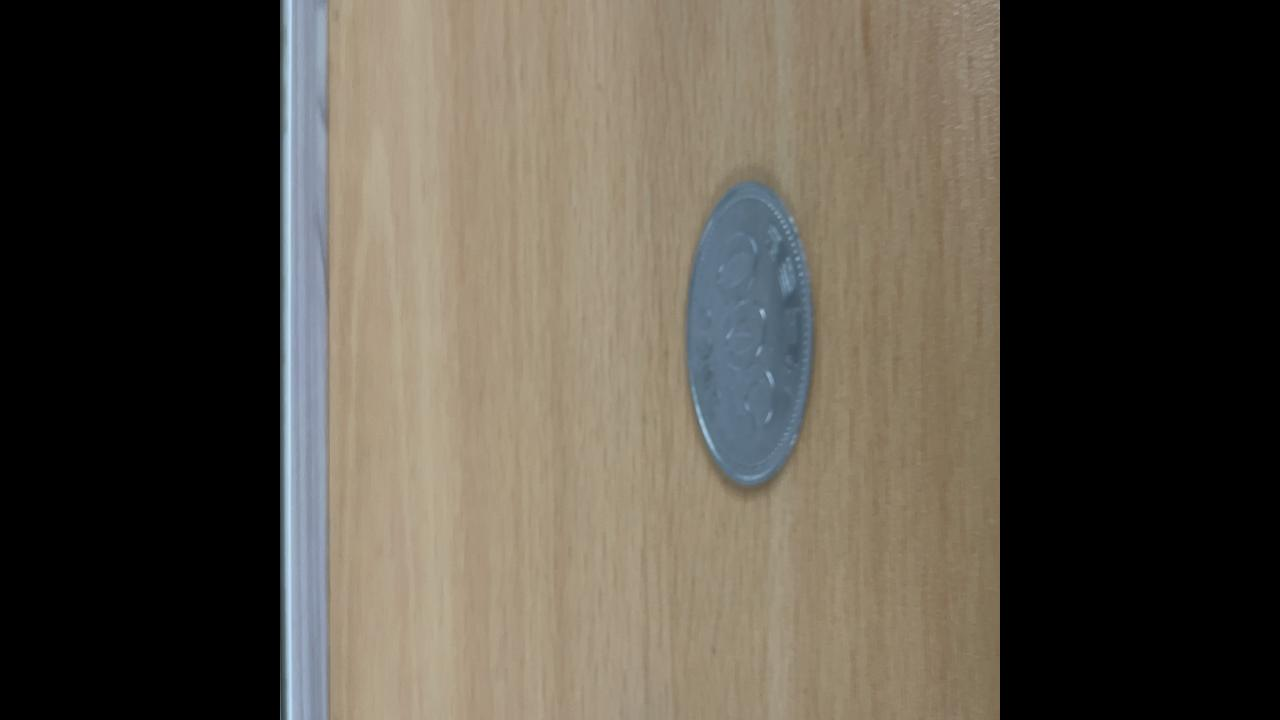coin: (685, 178, 813, 490)
